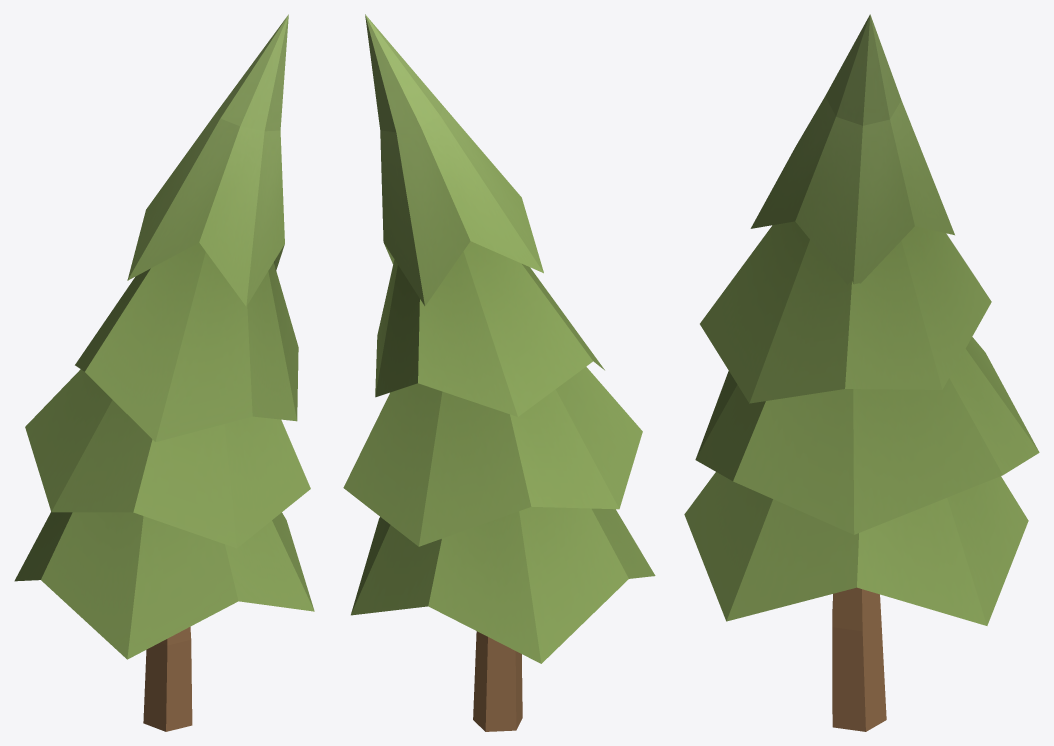
The model's file is Pine_Tree_OneSided_m_05_LOD.fbx.
3 views of the same model, side by side, from view 1: azimuth 30°, elevation 25°; view 2: azimuth 150°, elevation 25°; view 3: azimuth 270°, elevation 25° (orthographic). The views are drawn at different scales.
Parts seen in each view (by area): view 1: Pine_Tree_OneSided_m_05_LOD0; view 2: Pine_Tree_OneSided_m_05_LOD0; view 3: Pine_Tree_OneSided_m_05_LOD0.
Part boxes in pixels (x1,y1,x2,y2): Pine_Tree_OneSided_m_05_LOD0: (14,14,314,731); Pine_Tree_OneSided_m_05_LOD0: (343,14,655,731); Pine_Tree_OneSided_m_05_LOD0: (684,14,1039,731).
Size of what is drawn, in the model's own units: 423 by 1069 by 443.
